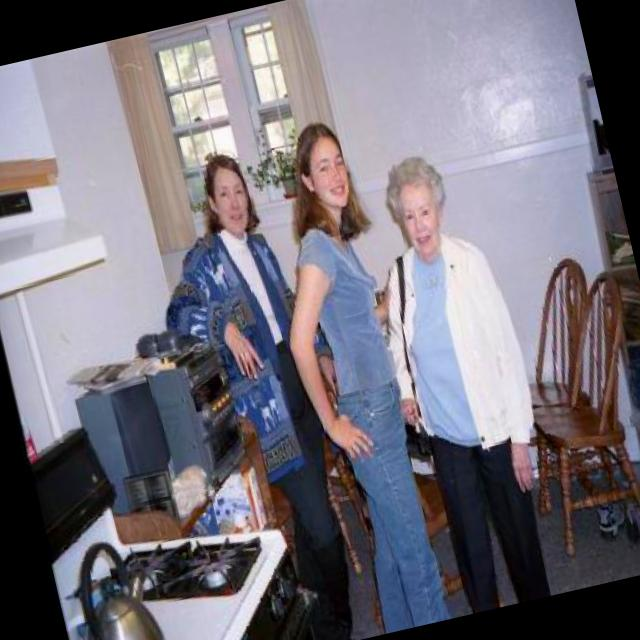Person: (242, 109, 476, 639), (130, 142, 375, 640), (345, 142, 576, 610)
